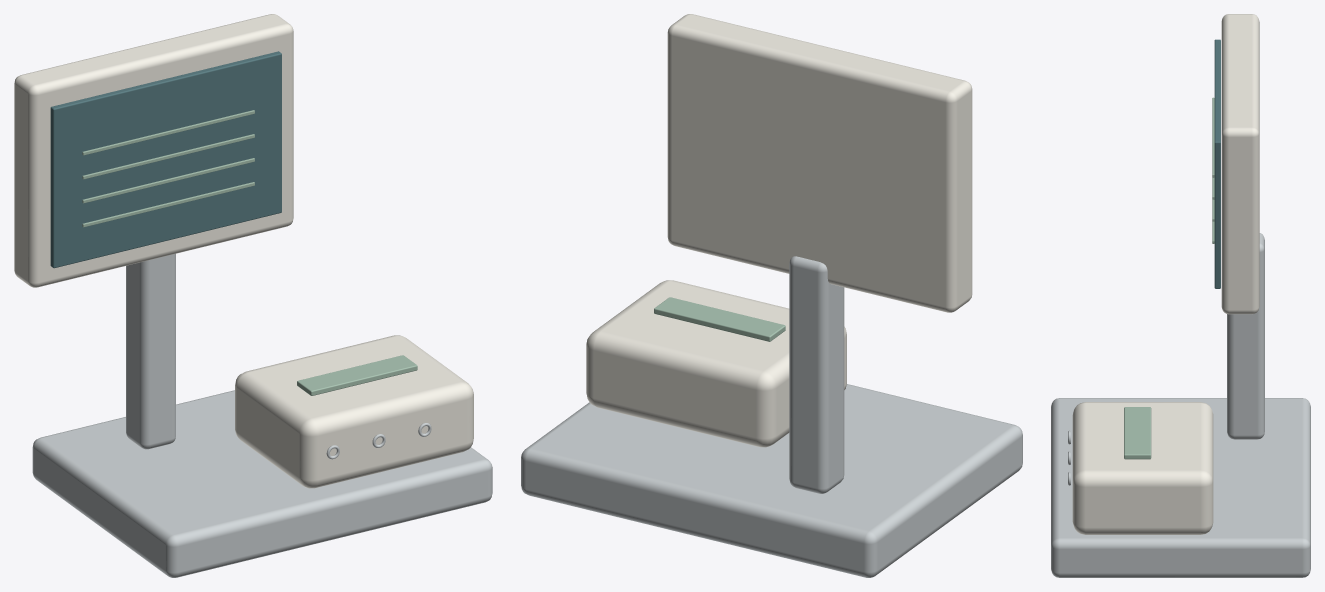
File: hearing-aid-and-audiology-clinic-real-ear-measurement--5cb58c76__31737.glb
3 views of the same model, side by side, from view 1: azimuth 30°, elevation 25°; view 2: azimuth 150°, elevation 25°; view 3: azimuth 270°, elevation 25° (orthographic). The views are drawn at different scales.
Visible parts, largest first — view 1: real-ear-measurement-console; view 2: real-ear-measurement-console; view 3: real-ear-measurement-console.
Boxes of the visible parts, <box> form: real-ear-measurement-console: <box>14,14,492,577</box>; real-ear-measurement-console: <box>521,14,1022,577</box>; real-ear-measurement-console: <box>1051,14,1310,577</box>.
Bounding box in the file's own units: 0.365 × 0.41 × 0.24.
